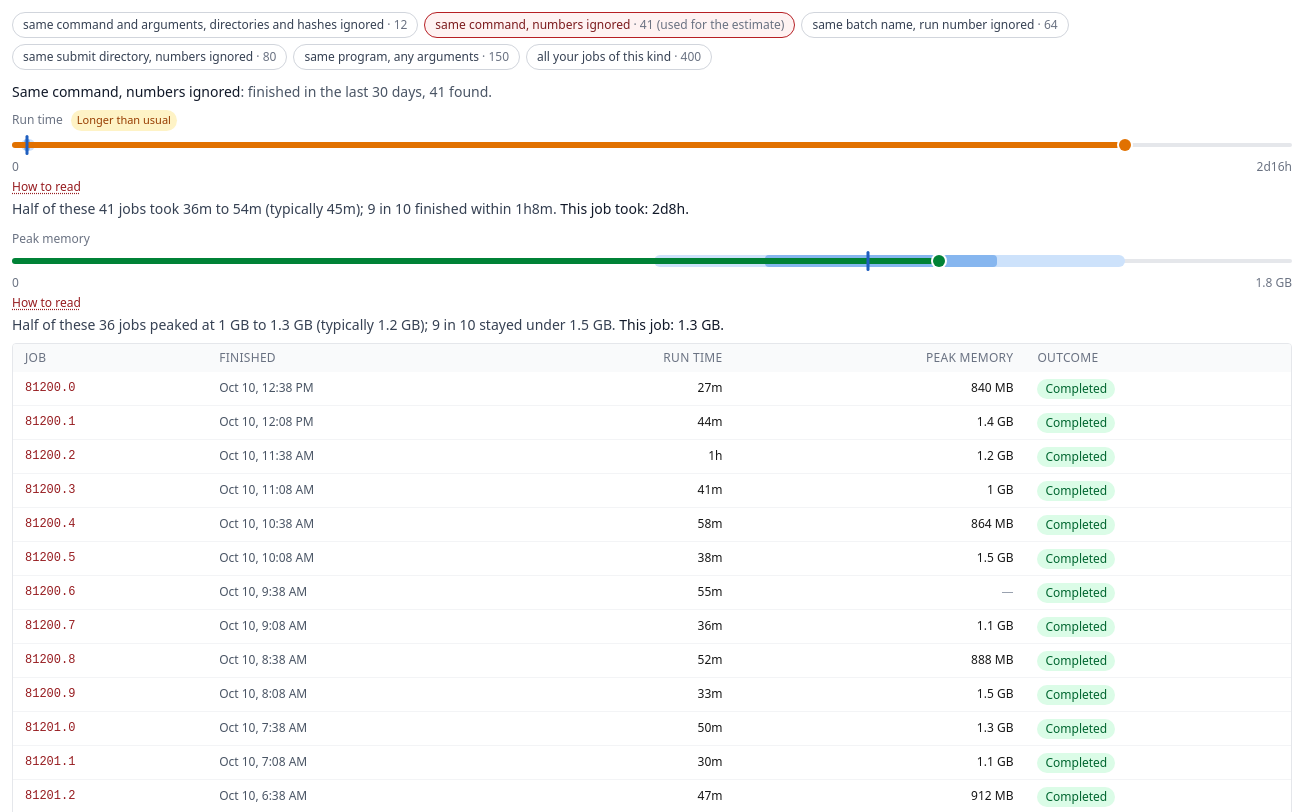
SimilarJobs for a job that was unusual › turns this job amber on each plot it was unusual on, and names it there
Check: the text "Longer than usual" is shown, box top-left (71, 110), bottom-right (177, 130)
A finished job may be unusual too, so its key says what amber means.
What coordinates should you click on to do the following:
click the 2nd button "How to read"
I would click on:
 (46, 302)
Its box is top-left (12, 294), bottom-right (81, 310).
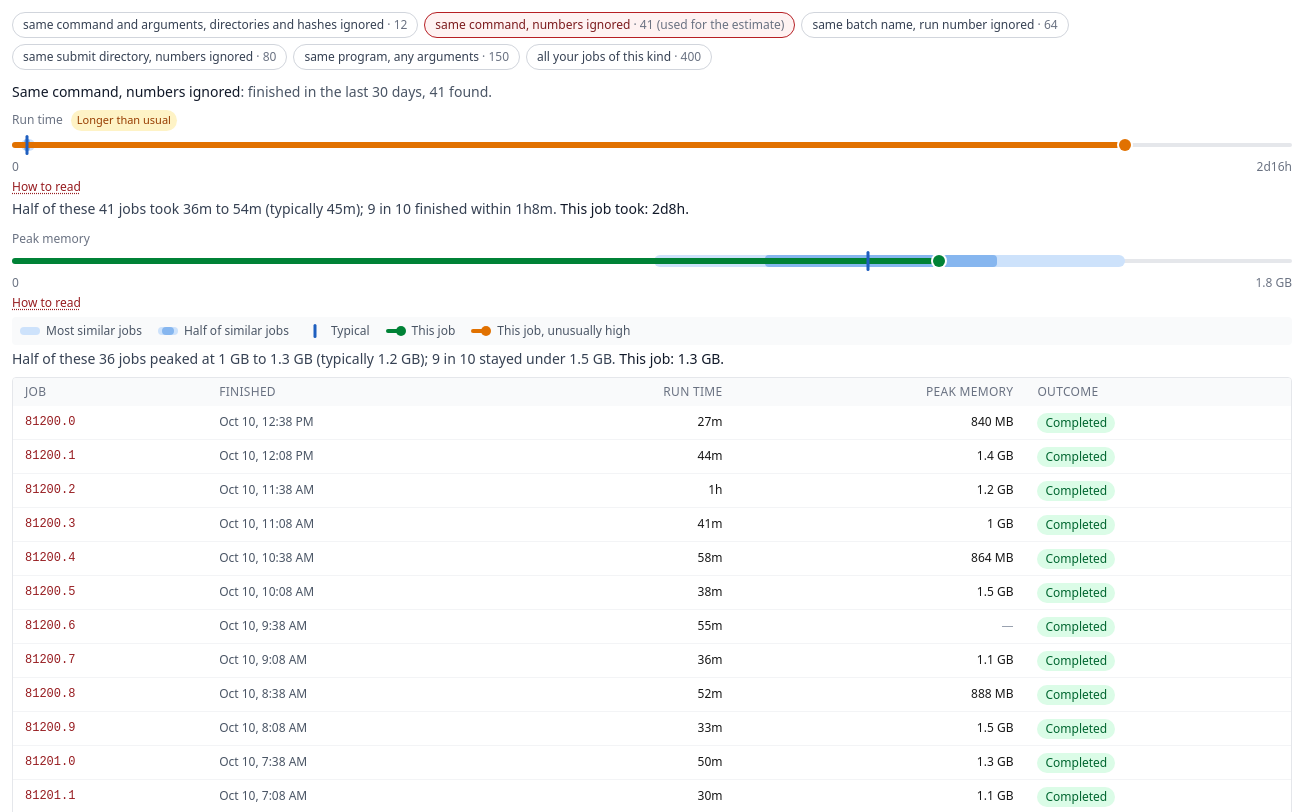
Check: the list with test id "range-legend" shows "This job, unusually high", box top-left (497, 322), bottom-right (630, 338)
